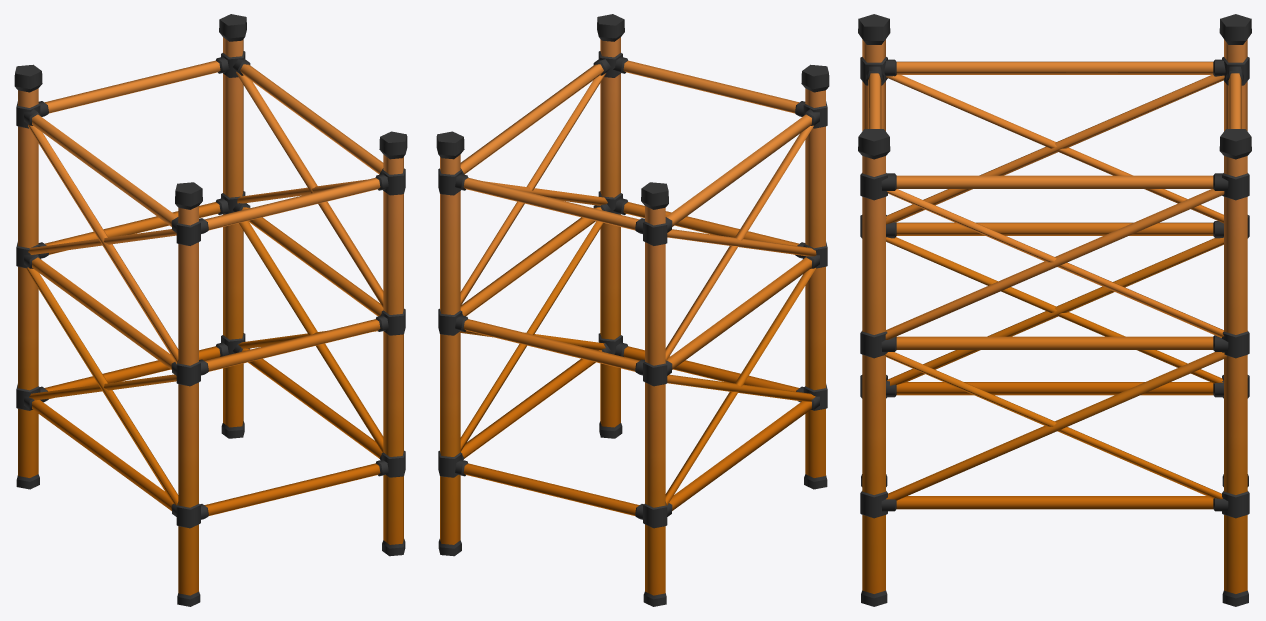
The model's file is Scaffolding_B_2.fbx.
3 views of the same model, side by side, from view 1: azimuth 30°, elevation 25°; view 2: azimuth 150°, elevation 25°; view 3: azimuth 270°, elevation 25° (orthographic). The views are drawn at different scales.
Visible parts, largest first — view 1: Scaffolding_B_2; view 2: Scaffolding_B_2; view 3: Scaffolding_B_2.
Boxes of the visible parts, box(x1,y1,x2,y2) form: Scaffolding_B_2: box(14, 14, 407, 606); Scaffolding_B_2: box(436, 14, 829, 606); Scaffolding_B_2: box(858, 14, 1251, 606).
Size of the model in its own units: 167 by 285 by 218.
